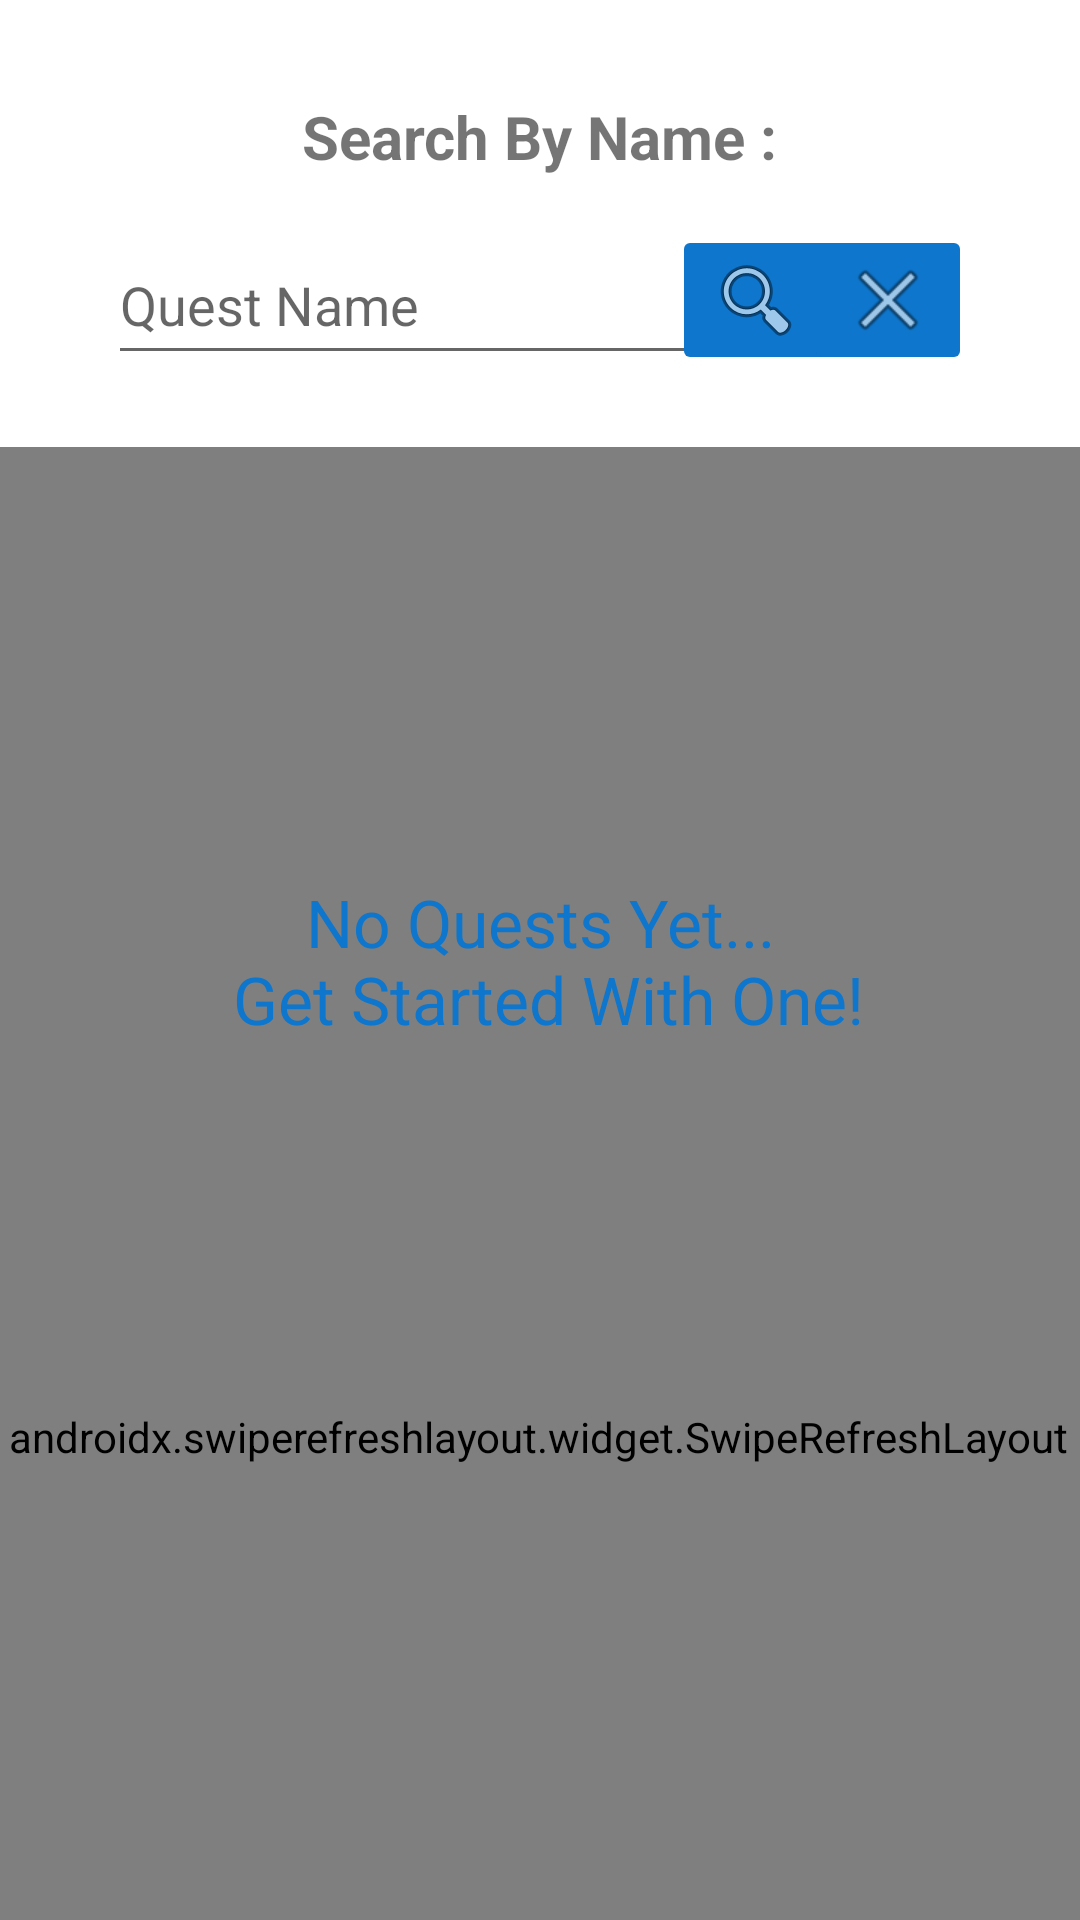

Icons on this 1080w x 1920h Android screen, each with its box as (x1, y1, x2, y2):
close clear cancel: (804, 243, 960, 357)
